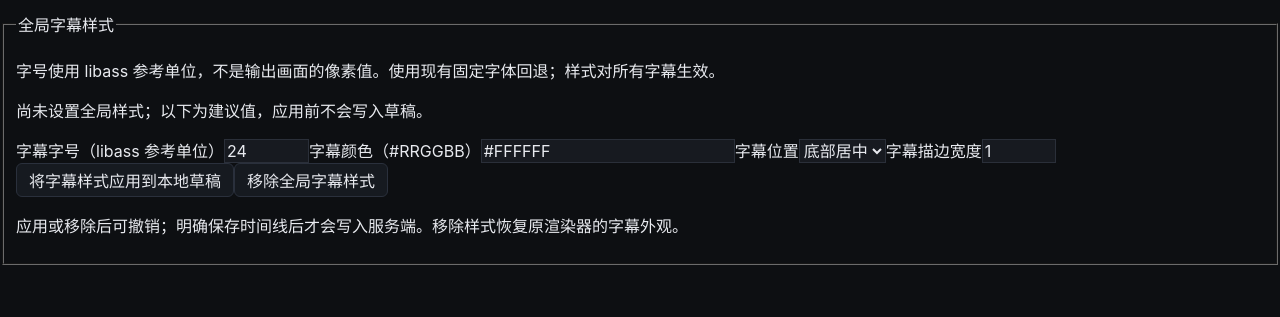
Scenario: rejects invalid staged 字幕字号（libass 参考单位）=24.5
The image size is (1280, 317).
Replace the text in the number field labelled "字幕字号（libass 参考单位）" with "24.5" at {"x": 267, "y": 151}, box [224,139,309,163]
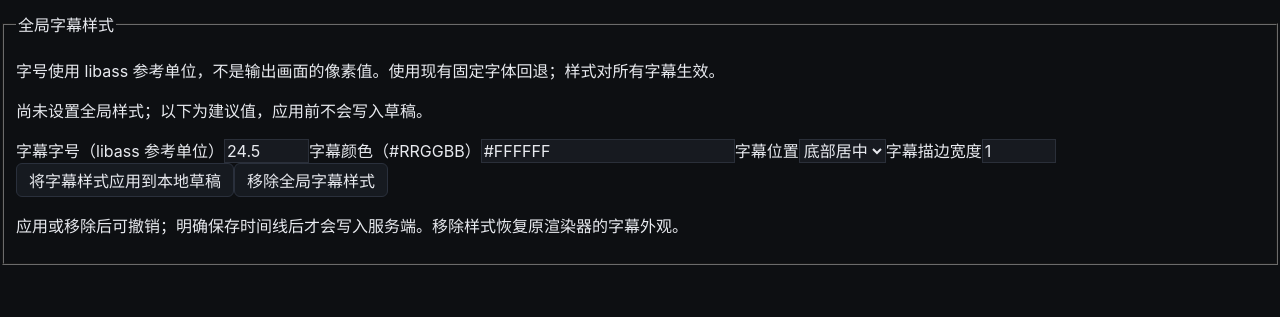
Click the button "将字幕样式应用到本地草稿" at {"x": 125, "y": 180}, box [16,163,234,197]
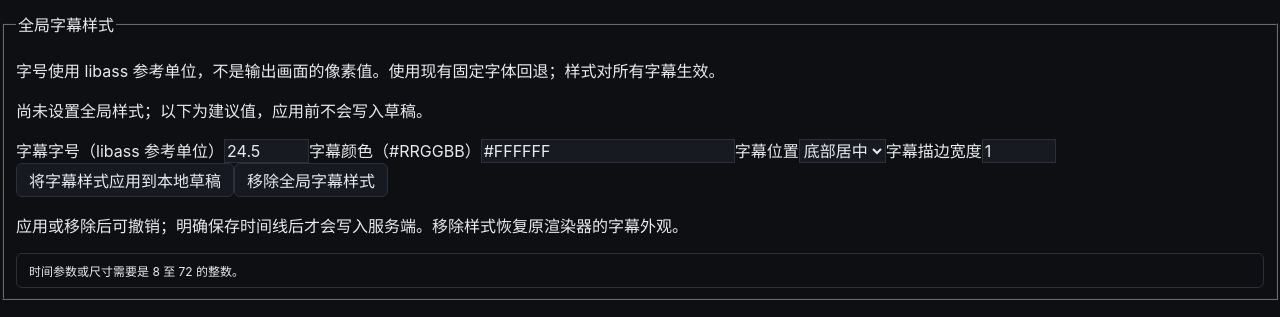
Expected: the message "时间参数或尺寸需要是 8 至 72 的整数。" is shown, [16,253,1264,288]
